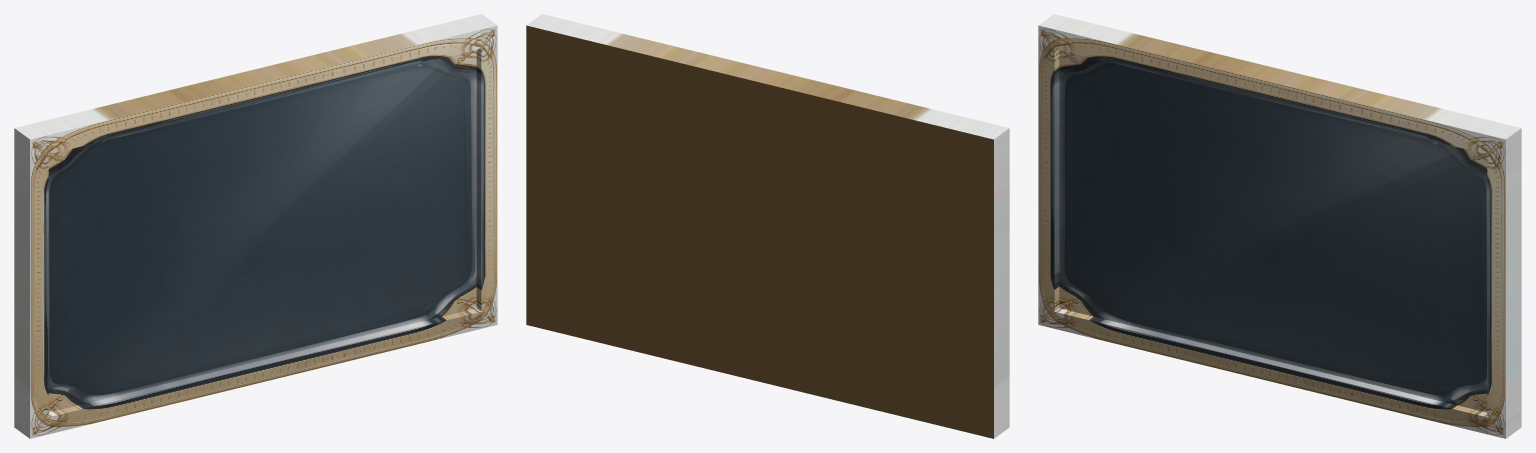
File: panel_card.glb
The picture shows the model from 3 angles, left to right: view 1: azimuth 30°, elevation 25°; view 2: azimuth 150°, elevation 25°; view 3: azimuth 330°, elevation 25°; orthographic projection.
Parts seen in each view (by area): view 1: panel_card; view 2: panel_card; view 3: panel_card.
Boxes of the visible parts, x1,y1,x2,y2 form: panel_card: (14, 14, 497, 438); panel_card: (526, 14, 1009, 438); panel_card: (1038, 14, 1521, 438).
Bounding box in the file's own units: 0.67 × 0.41 × 0.042.
Materials: 1 (1 with a texture image).
